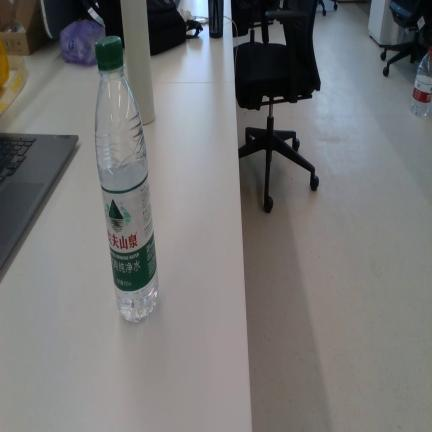bottle: (95, 36, 158, 322), (411, 47, 432, 116)
